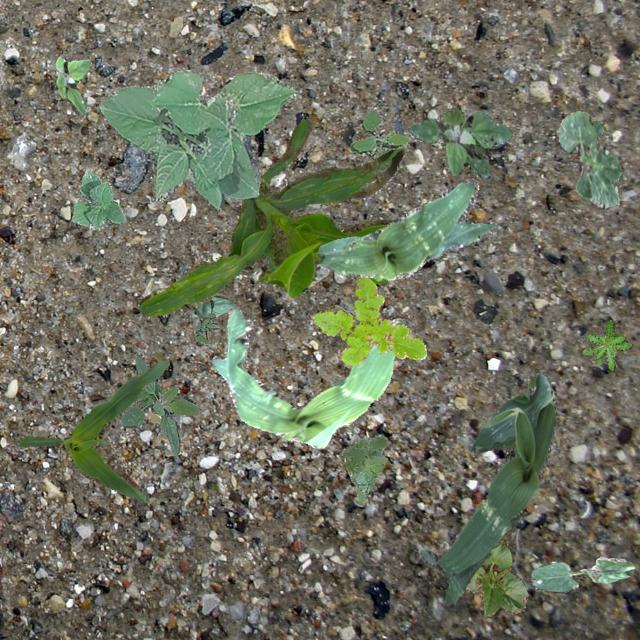crop: (138, 118, 404, 314), (418, 372, 554, 606), (98, 68, 296, 208), (212, 306, 404, 448), (17, 356, 168, 502), (315, 178, 499, 280), (556, 110, 620, 208), (464, 538, 528, 616), (530, 556, 634, 592), (70, 166, 126, 228), (150, 288, 234, 316), (182, 268, 212, 318)
weed: (312, 274, 426, 364), (120, 354, 200, 454), (406, 108, 511, 178), (350, 108, 410, 158), (341, 436, 386, 502), (580, 318, 632, 368), (54, 54, 90, 114), (194, 313, 218, 342)
